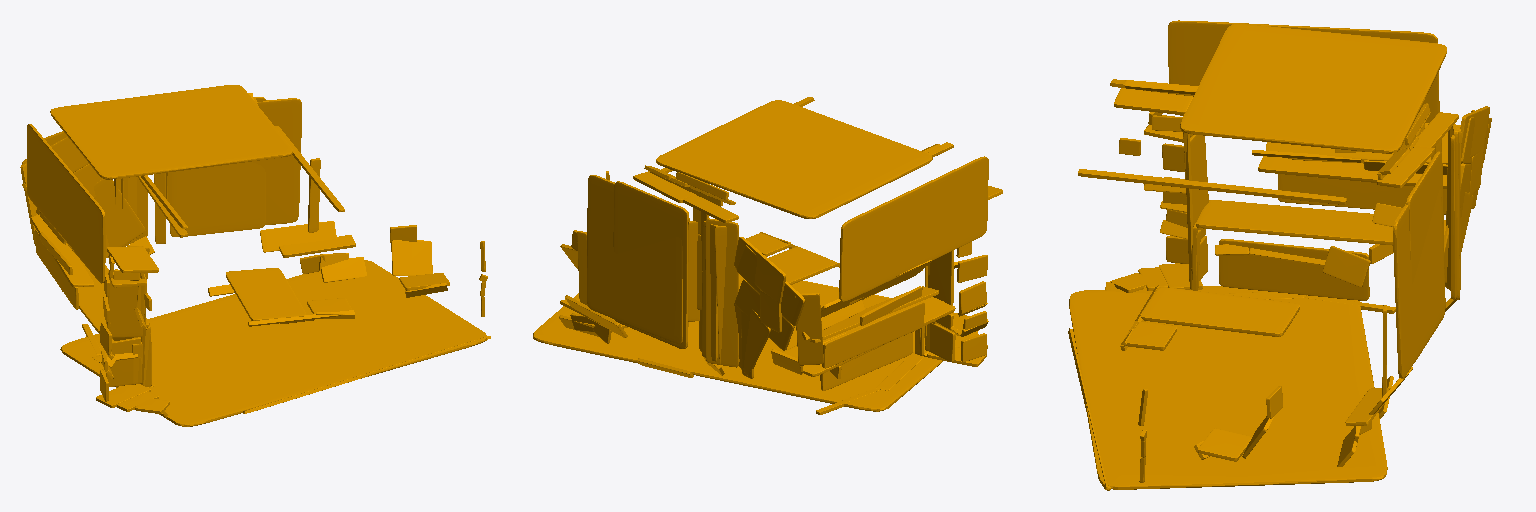
--- Facts derived from the render (not from the file) ---
Views: 3 orthographic renders of the robot side by side, from view 1: azimuth 30°, elevation 25°; view 2: azimuth 150°, elevation 25°; view 3: azimuth 270°, elevation 25°.
Robot: scene — 1 links, 0 joints (none); root link scene_link; default pose: all joints at 0.
Visible links, largest first — view 1: scene_link; view 2: scene_link; view 3: scene_link.
Boxes of the visible links, x1,y1,x2,y2 form: scene_link: [20, 85, 490, 426]; scene_link: [533, 97, 1002, 414]; scene_link: [1068, 20, 1491, 490].
Bounding box of the posed robot: 5.14 × 3.99 × 2.74 m (x, y, z).
Meshes: 102 distinct files referenced, 102 mesh visuals loaded (102 OBJ).

The robot description file, URDF, robot "scene":
<?xml version='1.0' encoding='utf-8'?>
<robot name="scene"><link name="scene_link"><visual><origin xyz="0.000000 0.000000 0.000000" rpy="0.000000 -0.000000 0.000000" /><geometry><mesh filename="part_000.obj" /></geometry></visual><collision><origin xyz="0.000000 0.000000 0.000000" rpy="0.000000 -0.000000 0.000000" /><geometry><mesh filename="part_000.obj" /></geometry></collision><visual><origin xyz="0.000000 0.000000 0.000000" rpy="0.000000 -0.000000 0.000000" /><geometry><mesh filename="part_001.obj" /></geometry></visual><collision><origin xyz="0.000000 0.000000 0.000000" rpy="0.000000 -0.000000 0.000000" /><geometry><mesh filename="part_001.obj" /></geometry></collision><visual><origin xyz="0.000000 0.000000 0.000000" rpy="0.000000 -0.000000 0.000000" /><geometry><mesh filename="part_002.obj" /></geometry></visual><collision><origin xyz="0.000000 0.000000 0.000000" rpy="0.000000 -0.000000 0.000000" /><geometry><mesh filename="part_002.obj" /></geometry></collision><visual><origin xyz="0.000000 0.000000 0.000000" rpy="0.000000 -0.000000 0.000000" /><geometry><mesh filename="part_003.obj" /></geometry></visual><collision><origin xyz="0.000000 0.000000 0.000000" rpy="0.000000 -0.000000 0.000000" /><geometry><mesh filename="part_003.obj" /></geometry></collision><visual><origin xyz="0.000000 0.000000 0.000000" rpy="0.000000 -0.000000 0.000000" /><geometry><mesh filename="part_004.obj" /></geometry></visual><collision><origin xyz="0.000000 0.000000 0.000000" rpy="0.000000 -0.000000 0.000000" /><geometry><mesh filename="part_004.obj" /></geometry></collision><visual><origin xyz="0.000000 0.000000 0.000000" rpy="0.000000 -0.000000 0.000000" /><geometry><mesh filename="part_005.obj" /></geometry></visual><collision><origin xyz="0.000000 0.000000 0.000000" rpy="0.000000 -0.000000 0.000000" /><geometry><mesh filename="part_005.obj" /></geometry></collision><visual><origin xyz="0.000000 0.000000 0.000000" rpy="0.000000 -0.000000 0.000000" /><geometry><mesh filename="part_006.obj" /></geometry></visual><collision><origin xyz="0.000000 0.000000 0.000000" rpy="0.000000 -0.000000 0.000000" /><geometry><mesh filename="part_006.obj" /></geometry></collision><visual><origin xyz="0.000000 0.000000 0.000000" rpy="0.000000 -0.000000 0.000000" /><geometry><mesh filename="part_007.obj" /></geometry></visual><collision><origin xyz="0.000000 0.000000 0.000000" rpy="0.000000 -0.000000 0.000000" /><geometry><mesh filename="part_007.obj" /></geometry></collision><visual><origin xyz="0.000000 0.000000 0.000000" rpy="0.000000 -0.000000 0.000000" /><geometry><mesh filename="part_008.obj" /></geometry></visual><collision><origin xyz="0.000000 0.000000 0.000000" rpy="0.000000 -0.000000 0.000000" /><geometry><mesh filename="part_008.obj" /></geometry></collision><visual><origin xyz="0.000000 0.000000 0.000000" rpy="0.000000 -0.000000 0.000000" /><geometry><mesh filename="part_009.obj" /></geometry></visual><collision><origin xyz="0.000000 0.000000 0.000000" rpy="0.000000 -0.000000 0.000000" /><geometry><mesh filename="part_009.obj" /></geometry></collision><visual><origin xyz="0.000000 0.000000 0.000000" rpy="0.000000 -0.000000 0.000000" /><geometry><mesh filename="part_010.obj" /></geometry></visual><collision><origin xyz="0.000000 0.000000 0.000000" rpy="0.000000 -0.000000 0.000000" /><geometry><mesh filename="part_010.obj" /></geometry></collision><visual><origin xyz="0.000000 0.000000 0.000000" rpy="0.000000 -0.000000 0.000000" /><geometry><mesh filename="part_011.obj" /></geometry></visual><collision><origin xyz="0.000000 0.000000 0.000000" rpy="0.000000 -0.000000 0.000000" /><geometry><mesh filename="part_011.obj" /></geometry></collision><visual><origin xyz="0.000000 0.000000 0.000000" rpy="0.000000 -0.000000 0.000000" /><geometry><mesh filename="part_012.obj" /></geometry></visual><collision><origin xyz="0.000000 0.000000 0.000000" rpy="0.000000 -0.000000 0.000000" /><geometry><mesh filename="part_012.obj" /></geometry></collision><visual><origin xyz="0.000000 0.000000 0.000000" rpy="0.000000 -0.000000 0.000000" /><geometry><mesh filename="part_013.obj" /></geometry></visual><collision><origin xyz="0.000000 0.000000 0.000000" rpy="0.000000 -0.000000 0.000000" /><geometry><mesh filename="part_013.obj" /></geometry></collision><visual><origin xyz="0.000000 0.000000 0.000000" rpy="0.000000 -0.000000 0.000000" /><geometry><mesh filename="part_014.obj" /></geometry></visual><collision><origin xyz="0.000000 0.000000 0.000000" rpy="0.000000 -0.000000 0.000000" /><geometry><mesh filename="part_014.obj" /></geometry></collision><visual><origin xyz="0.000000 0.000000 0.000000" rpy="0.000000 -0.000000 0.000000" /><geometry><mesh filename="part_015.obj" /></geometry></visual><collision><origin xyz="0.000000 0.000000 0.000000" rpy="0.000000 -0.000000 0.000000" /><geometry><mesh filename="part_015.obj" /></geometry></collision><visual><origin xyz="0.000000 0.000000 0.000000" rpy="0.000000 -0.000000 0.000000" /><geometry><mesh filename="part_016.obj" /></geometry></visual><collision><origin xyz="0.000000 0.000000 0.000000" rpy="0.000000 -0.000000 0.000000" /><geometry><mesh filename="part_016.obj" /></geometry></collision><visual><origin xyz="0.000000 0.000000 0.000000" rpy="0.000000 -0.000000 0.000000" /><geometry><mesh filename="part_017.obj" /></geometry></visual><collision><origin xyz="0.000000 0.000000 0.000000" rpy="0.000000 -0.000000 0.000000" /><geometry><mesh filename="part_017.obj" /></geometry></collision><visual><origin xyz="0.000000 0.000000 0.000000" rpy="0.000000 -0.000000 0.000000" /><geometry><mesh filename="part_018.obj" /></geometry></visual><collision><origin xyz="0.000000 0.000000 0.000000" rpy="0.000000 -0.000000 0.000000" /><geometry><mesh filename="part_018.obj" /></geometry></collision><visual><origin xyz="0.000000 0.000000 0.000000" rpy="0.000000 -0.000000 0.000000" /><geometry><mesh filename="part_019.obj" /></geometry></visual><collision><origin xyz="0.000000 0.000000 0.000000" rpy="0.000000 -0.000000 0.000000" /><geometry><mesh filename="part_019.obj" /></geometry></collision><visual><origin xyz="0.000000 0.000000 0.000000" rpy="0.000000 -0.000000 0.000000" /><geometry><mesh filename="part_020.obj" /></geometry></visual><collision><origin xyz="0.000000 0.000000 0.000000" rpy="0.000000 -0.000000 0.000000" /><geometry><mesh filename="part_020.obj" /></geometry></collision><visual><origin xyz="0.000000 0.000000 0.000000" rpy="0.000000 -0.000000 0.000000" /><geometry><mesh filename="part_021.obj" /></geometry></visual><collision><origin xyz="0.000000 0.000000 0.000000" rpy="0.000000 -0.000000 0.000000" /><geometry><mesh filename="part_021.obj" /></geometry></collision><visual><origin xyz="0.000000 0.000000 0.000000" rpy="0.000000 -0.000000 0.000000" /><geometry><mesh filename="part_022.obj" /></geometry></visual><collision><origin xyz="0.000000 0.000000 0.000000" rpy="0.000000 -0.000000 0.000000" /><geometry><mesh filename="part_022.obj" /></geometry></collision><visual><origin xyz="0.000000 0.000000 0.000000" rpy="0.000000 -0.000000 0.000000" /><geometry><mesh filename="part_023.obj" /></geometry></visual><collision><origin xyz="0.000000 0.000000 0.000000" rpy="0.000000 -0.000000 0.000000" /><geometry><mesh filename="part_023.obj" /></geometry></collision><visual><origin xyz="0.000000 0.000000 0.000000" rpy="0.000000 -0.000000 0.000000" /><geometry><mesh filename="part_024.obj" /></geometry></visual><collision><origin xyz="0.000000 0.000000 0.000000" rpy="0.000000 -0.000000 0.000000" /><geometry><mesh filename="part_024.obj" /></geometry></collision><visual><origin xyz="0.000000 0.000000 0.000000" rpy="0.000000 -0.000000 0.000000" /><geometry><mesh filename="part_025.obj" /></geometry></visual><collision><origin xyz="0.000000 0.000000 0.000000" rpy="0.000000 -0.000000 0.000000" /><geometry><mesh filename="part_025.obj" /></geometry></collision><visual><origin xyz="0.000000 0.000000 0.000000" rpy="0.000000 -0.000000 0.000000" /><geometry><mesh filename="part_026.obj" /></geometry></visual><collision><origin xyz="0.000000 0.000000 0.000000" rpy="0.000000 -0.000000 0.000000" /><geometry><mesh filename="part_026.obj" /></geometry></collision><visual><origin xyz="0.000000 0.000000 0.000000" rpy="0.000000 -0.000000 0.000000" /><geometry><mesh filename="part_027.obj" /></geometry></visual><collision><origin xyz="0.000000 0.000000 0.000000" rpy="0.000000 -0.000000 0.000000" /><geometry><mesh filename="part_027.obj" /></geometry></collision><visual><origin xyz="0.000000 0.000000 0.000000" rpy="0.000000 -0.000000 0.000000" /><geometry><mesh filename="part_028.obj" /></geometry></visual><collision><origin xyz="0.000000 0.000000 0.000000" rpy="0.000000 -0.000000 0.000000" /><geometry><mesh filename="part_028.obj" /></geometry></collision><visual><origin xyz="0.000000 0.000000 0.000000" rpy="0.000000 -0.000000 0.000000" /><geometry><mesh filename="part_029.obj" /></geometry></visual><collision><origin xyz="0.000000 0.000000 0.000000" rpy="0.000000 -0.000000 0.000000" /><geometry><mesh filename="part_029.obj" /></geometry></collision><visual><origin xyz="0.000000 0.000000 0.000000" rpy="0.000000 -0.000000 0.000000" /><geometry><mesh filename="part_030.obj" /></geometry></visual><collision><origin xyz="0.000000 0.000000 0.000000" rpy="0.000000 -0.000000 0.000000" /><geometry><mesh filename="part_030.obj" /></geometry></collision><visual><origin xyz="0.000000 0.000000 0.000000" rpy="0.000000 -0.000000 0.000000" /><geometry><mesh filename="part_031.obj" /></geometry></visual><collision><origin xyz="0.000000 0.000000 0.000000" rpy="0.000000 -0.000000 0.000000" /><geometry><mesh filename="part_031.obj" /></geometry></collision><visual><origin xyz="0.000000 0.000000 0.000000" rpy="0.000000 -0.000000 0.000000" /><geometry><mesh filename="part_032.obj" /></geometry></visual><collision><origin xyz="0.000000 0.000000 0.000000" rpy="0.000000 -0.000000 0.000000" /><geometry><mesh filename="part_032.obj" /></geometry></collision><visual><origin xyz="0.000000 0.000000 0.000000" rpy="0.000000 -0.000000 0.000000" /><geometry><mesh filename="part_033.obj" /></geometry></visual><collision><origin xyz="0.000000 0.000000 0.000000" rpy="0.000000 -0.000000 0.000000" /><geometry><mesh filename="part_033.obj" /></geometry></collision><visual><origin xyz="0.000000 0.000000 0.000000" rpy="0.000000 -0.000000 0.000000" /><geometry><mesh filename="part_034.obj" /></geometry></visual><collision><origin xyz="0.000000 0.000000 0.000000" rpy="0.000000 -0.000000 0.000000" /><geometry><mesh filename="part_034.obj" /></geometry></collision><visual><origin xyz="0.000000 0.000000 0.000000" rpy="0.000000 -0.000000 0.000000" /><geometry><mesh filename="part_035.obj" /></geometry></visual><collision><origin xyz="0.000000 0.000000 0.000000" rpy="0.000000 -0.000000 0.000000" /><geometry><mesh filename="part_035.obj" /></geometry></collision><visual><origin xyz="0.000000 0.000000 0.000000" rpy="0.000000 -0.000000 0.000000" /><geometry><mesh filename="part_036.obj" /></geometry></visual><collision><origin xyz="0.000000 0.000000 0.000000" rpy="0.000000 -0.000000 0.000000" /><geometry><mesh filename="part_036.obj" /></geometry></collision><visual><origin xyz="0.000000 0.000000 0.000000" rpy="0.000000 -0.000000 0.000000" /><geometry><mesh filename="part_037.obj" /></geometry></visual><collision><origin xyz="0.000000 0.000000 0.000000" rpy="0.000000 -0.000000 0.000000" /><geometry><mesh filename="part_037.obj" /></geometry></collision><visual><origin xyz="0.000000 0.000000 0.000000" rpy="0.000000 -0.000000 0.000000" /><geometry><mesh filename="part_038.obj" /></geometry></visual><collision><origin xyz="0.000000 0.000000 0.000000" rpy="0.000000 -0.000000 0.000000" /><geometry><mesh filename="part_038.obj" /></geometry></collision><visual><origin xyz="0.000000 0.000000 0.000000" rpy="0.000000 -0.000000 0.000000" /><geometry><mesh filename="part_039.obj" /></geometry></visual><collision><origin xyz="0.000000 0.000000 0.000000" rpy="0.000000 -0.000000 0.000000" /><geometry><mesh filename="part_039.obj" /></geometry></collision><visual><origin xyz="0.000000 0.000000 0.000000" rpy="0.000000 -0.000000 0.000000" /><geometry><mesh filename="part_040.obj" /></geometry></visual><collision><origin xyz="0.000000 0.000000 0.000000" rpy="0.000000 -0.000000 0.000000" /><geometry><mesh filename="part_040.obj" /></geometry></collision><visual><origin xyz="0.000000 0.000000 0.000000" rpy="0.000000 -0.000000 0.000000" /><geometry><mesh filename="part_041.obj" /></geometry></visual><collision><origin xyz="0.000000 0.000000 0.000000" rpy="0.000000 -0.000000 0.000000" /><geometry><mesh filename="part_041.obj" /></geometry></collision><visual><origin xyz="0.000000 0.000000 0.000000" rpy="0.000000 -0.000000 0.000000" /><geometry><mesh filename="part_042.obj" /></geometry></visual><collision><origin xyz="0.000000 0.000000 0.000000" rpy="0.000000 -0.000000 0.000000" /><geometry><mesh filename="part_042.obj" /></geometry></collision><visual><origin xyz="0.000000 0.000000 0.000000" rpy="0.000000 -0.000000 0.000000" /><geometry><mesh filename="part_043.obj" /></geometry></visual><collision><origin xyz="0.000000 0.000000 0.000000" rpy="0.000000 -0.000000 0.000000" /><geometry><mesh filename="part_043.obj" /></geometry></collision><visual><origin xyz="0.000000 0.000000 0.000000" rpy="0.000000 -0.000000 0.000000" /><geometry><mesh filename="part_044.obj" /></geometry></visual><collision><origin xyz="0.000000 0.000000 0.000000" rpy="0.000000 -0.000000 0.000000" /><geometry><mesh filename="part_044.obj" /></geometry></collision><visual><origin xyz="0.000000 0.000000 0.000000" rpy="0.000000 -0.000000 0.000000" /><geometry><mesh filename="part_045.obj" /></geometry></visual><collision><origin xyz="0.000000 0.000000 0.000000" rpy="0.000000 -0.000000 0.000000" /><geometry><mesh filename="part_045.obj" /></geometry></collision><visual><origin xyz="0.000000 0.000000 0.000000" rpy="0.000000 -0.000000 0.000000" /><geometry><mesh filename="part_046.obj" /></geometry></visual><collision><origin xyz="0.000000 0.000000 0.000000" rpy="0.000000 -0.000000 0.000000" /><geometry><mesh filename="part_046.obj" /></geometry></collision><visual><origin xyz="0.000000 0.000000 0.000000" rpy="0.000000 -0.000000 0.000000" /><geometry><mesh filename="part_047.obj" /></geometry></visual><collision><origin xyz="0.000000 0.000000 0.000000" rpy="0.000000 -0.000000 0.000000" /><geometry><mesh filename="part_047.obj" /></geometry></collision><visual><origin xyz="0.000000 0.000000 0.000000" rpy="0.000000 -0.000000 0.000000" /><geometry><mesh filename="part_048.obj" /></geometry></visual><collision><origin xyz="0.000000 0.000000 0.000000" rpy="0.000000 -0.000000 0.000000" /><geometry><mesh filename="part_048.obj" /></geometry></collision><visual><origin xyz="0.000000 0.000000 0.000000" rpy="0.000000 -0.000000 0.000000" /><geometry><mesh filename="part_049.obj" /></geometry></visual><collision><origin xyz="0.000000 0.000000 0.000000" rpy="0.000000 -0.000000 0.000000" /><geometry><mesh filename="part_049.obj" /></geometry></collision><visual><origin xyz="0.000000 0.000000 0.000000" rpy="0.000000 -0.000000 0.000000" /><geometry><mesh filename="part_050.obj" /></geometry></visual><collision><origin xyz="0.000000 0.000000 0.000000" rpy="0.000000 -0.000000 0.000000" /><geometry><mesh filename="part_050.obj" /></geometry></collision><visual><origin xyz="0.000000 0.000000 0.000000" rpy="0.000000 -0.000000 0.000000" /><geometry><mesh filename="part_051.obj" /></geometry></visual><collision><origin xyz="0.000000 0.000000 0.000000" rpy="0.000000 -0.000000 0.000000" /><geometry><mesh filename="part_051.obj" /></geometry></collision><visual><origin xyz="0.000000 0.000000 0.000000" rpy="0.000000 -0.000000 0.000000" /><geometry><mesh filename="part_052.obj" /></geometry></visual><collision><origin xyz="0.000000 0.000000 0.000000" rpy="0.000000 -0.000000 0.000000" /><geometry><mesh filename="part_052.obj" /></geometry></collision><visual><origin xyz="0.000000 0.000000 0.000000" rpy="0.000000 -0.000000 0.000000" /><geometry><mesh filename="part_053.obj" /></geometry></visual><collision><origin xyz="0.000000 0.000000 0.000000" rpy="0.000000 -0.000000 0.000000" /><geometry><mesh filename="part_053.obj" /></geometry></collision><visual><origin xyz="0.000000 0.000000 0.000000" rpy="0.000000 -0.000000 0.000000" /><geometry><mesh filename="part_054.obj" /></geometry></visual><collision><origin xyz="0.000000 0.000000 0.000000" rpy="0.000000 -0.000000 0.000000" /><geometry><mesh filename="part_054.obj" /></geometry></collision><visual><origin xyz="0.000000 0.000000 0.000000" rpy="0.000000 -0.000000 0.000000" /><geometry><mesh filename="part_055.obj" /></geometry></visual><collision><origin xyz="0.000000 0.000000 0.000000" rpy="0.000000 -0.000000 0.000000" /><geometry><mesh filename="part_055.obj" /></geometry></collision><visual><origin xyz="0.000000 0.000000 0.000000" rpy="0.000000 -0.000000 0.000000" /><geometry><mesh filename="part_056.obj" /></geometry></visual><collision><origin xyz="0.000000 0.000000 0.000000" rpy="0.000000 -0.000000 0.000000" /><geometry><mesh filename="part_056.obj" /></geometry></collision><visual><origin xyz="0.000000 0.000000 0.000000" rpy="0.000000 -0.000000 0.000000" /><geometry><mesh filename="part_057.obj" /></geometry></visual><collision><origin xyz="0.000000 0.000000 0.000000" rpy="0.000000 -0.000000 0.000000" /><geometry><mesh filename="part_057.obj" /></geometry></collision><visual><origin xyz="0.000000 0.000000 0.000000" rpy="0.000000 -0.000000 0.000000" /><geometry><mesh filename="part_058.obj" /></geometry></visual><collision><origin xyz="0.000000 0.000000 0.000000" rpy="0.000000 -0.000000 0.000000" /><geometry><mesh filename="part_058.obj" /></geometry></collision><visual><origin xyz="0.000000 0.000000 0.000000" rpy="0.000000 -0.000000 0.000000" /><geometry><mesh filename="part_059.obj" /></geometry></visual><collision><origin xyz="0.000000 0.000000 0.000000" rpy="0.000000 -0.000000 0.000000" /><geometry><mesh filename="part_059.obj" /></geometry></collision><visual><origin xyz="0.000000 0.000000 0.000000" rpy="0.000000 -0.000000 0.000000" /><geometry><mesh filename="part_060.obj" /></geometry></visual><collision><origin xyz="0.000000 0.000000 0.000000" rpy="0.000000 -0.000000 0.000000" /><geometry><mesh filename="part_060.obj" /></geometry></collision><visual><origin xyz="0.000000 0.000000 0.000000" rpy="0.000000 -0.000000 0.000000" /><geometry><mesh filename="part_061.obj" /></geometry></visual><collision><origin xyz="0.000000 0.000000 0.000000" rpy="0.000000 -0.000000 0.000000" /><geometry><mesh filename="part_061.obj" /></geometry></collision><visual><origin xyz="0.000000 0.000000 0.000000" rpy="0.000000 -0.000000 0.000000" /><geometry><mesh filename="part_062.obj" /></geometry></visual><collision><origin xyz="0.000000 0.000000 0.000000" rpy="0.000000 -0.000000 0.000000" /><geometry><mesh filename="part_062.obj" /></geometry></collision><visual><origin xyz="0.000000 0.000000 0.000000" rpy="0.000000 -0.000000 0.000000" /><geometry><mesh filename="part_063.obj" /></geometry></visual><collision><origin xyz="0.000000 0.000000 0.000000" rpy="0.000000 -0.000000 0.000000" /><geometry><mesh filename="part_063.obj" /></geometry></collision><visual><origin xyz="0.000000 0.000000 0.000000" rpy="0.000000 -0.000000 0.000000" /><geometry><mesh filename="part_064.obj" /></geometry></visual><collision><origin xyz="0.000000 0.000000 0.000000" rpy="0.000000 -0.000000 0.000000" /><geometry><mesh filename="part_064.obj" /></geometry></collision><visual><origin xyz="0.000000 0.000000 0.000000" rpy="0.000000 -0.000000 0.000000" /><geometry><mesh filename="part_065.obj" /></geometry></visual><collision><origin xyz="0.000000 0.000000 0.000000" rpy="0.000000 -0.000000 0.000000" /><geometry><mesh filename="part_065.obj" /></geometry></collision><visual><origin xyz="0.000000 0.000000 0.000000" rpy="0.000000 -0.000000 0.000000" /><geometry><mesh filename="part_066.obj" /></geometry></visual><collision><origin xyz="0.000000 0.000000 0.000000" rpy="0.000000 -0.000000 0.000000" /><geometry><mesh filename="part_066.obj" /></geometry></collision><visual><origin xyz="0.000000 0.000000 0.000000" rpy="0.000000 -0.000000 0.000000" /><geometry><mesh filename="part_067.obj" /></geometry></visual><collision><origin xyz="0.000000 0.000000 0.000000" rpy="0.000000 -0.000000 0.000000" /><geometry><mesh filename="part_067.obj" /></geometry></collision><visual><origin xyz="0.000000 0.000000 0.000000" rpy="0.000000 -0.000000 0.000000" /><geometry><mesh filename="part_068.obj" /></geometry></visual><collision><origin xyz="0.000000 0.000000 0.000000" rpy="0.000000 -0.000000 0.000000" /><geometry><mesh filename="part_068.obj" /></geometry></collision><visual><origin xyz="0.000000 0.000000 0.000000" rpy="0.000000 -0.000000 0.000000" /><geometry><mesh filename="part_069.obj" /></geometry></visual><collision><origin xyz="0.000000 0.000000 0.000000" rpy="0.000000 -0.000000 0.000000" /><geometry><mesh filename="part_069.obj" /></geometry></collision><visual><origin xyz="0.000000 0.000000 0.000000" rpy="0.000000 -0.000000 0.000000" /><geometry><mesh filename="part_070.obj" /></geometry></visual><collision><origin xyz="0.000000 0.000000 0.000000" rpy="0.000000 -0.000000 0.000000" /><geometry><mesh filename="part_070.obj" /></geometry></collision><visual><origin xyz="0.000000 0.000000 0.000000" rpy="0.000000 -0.000000 0.000000" /><geometry><mesh filename="part_071.obj" /></geometry></visual><collision><origin xyz="0.000000 0.000000 0.000000" rpy="0.000000 -0.000000 0.000000" /><geometry><mesh filename="part_071.obj" /></geometry></collision><visual><origin xyz="0.000000 0.000000 0.000000" rpy="0.000000 -0.000000 0.000000" /><geometry><mesh filename="part_072.obj" /></geometry></visual><collision><origin xyz="0.000000 0.000000 0.000000" rpy="0.000000 -0.000000 0.000000" /><geometry><mesh filename="part_072.obj" /></geometry></collision><visual><origin xyz="0.000000 0.000000 0.000000" rpy="0.000000 -0.000000 0.000000" /><geometry><mesh filename="part_073.obj" /></geometry></visual><collision><origin xyz="0.000000 0.000000 0.000000" rpy="0.000000 -0.000000 0.000000" /><geometry><mesh filename="part_073.obj" /></geometry></collision><visual><origin xyz="0.000000 0.000000 0.000000" rpy="0.000000 -0.000000 0.000000" /><geometry><mesh filename="part_074.obj" /></geometry></visual><collision><origin xyz="0.000000 0.000000 0.000000" rpy="0.000000 -0.000000 0.000000" /><geometry><mesh filename="part_074.obj" /></geometry></collision><visual><origin xyz="0.000000 0.000000 0.000000" rpy="0.000000 -0.000000 0.000000" /><geometry><mesh filename="part_075.obj" /></geometry></visual><collision><origin xyz="0.000000 0.000000 0.000000" rpy="0.000000 -0.000000 0.000000" /><geometry><mesh filename="part_075.obj" /></geometry></collision><visual><origin xyz="0.000000 0.000000 0.000000" rpy="0.000000 -0.000000 0.000000" /><geometry><mesh filename="part_076.obj" /></geometry></visual><collision><origin xyz="0.000000 0.000000 0.000000" rpy="0.000000 -0.000000 0.000000" /><geometry><mesh filename="part_076.obj" /></geometry></collision><visual><origin xyz="0.000000 0.000000 0.000000" rpy="0.000000 -0.000000 0.000000" /><geometry><mesh filename="part_077.obj" /></geometry></visual><collision><origin xyz="0.000000 0.000000 0.000000" rpy="0.000000 -0.000000 0.000000" /><geometry><mesh filename="part_077.obj" /></geometry></collision><visual><origin xyz="0.000000 0.000000 0.000000" rpy="0.000000 -0.000000 0.000000" /><geometry><mesh filename="part_078.obj" /></geometry></visual><collision><origin xyz="0.000000 0.000000 0.000000" rpy="0.000000 -0.000000 0.000000" /><geometry><mesh filename="part_078.obj" /></geometry></collision><visual><origin xyz="0.000000 0.000000 0.000000" rpy="0.000000 -0.000000 0.000000" /><geometry><mesh filename="part_079.obj" /></geometry></visual><collision><origin xyz="0.000000 0.000000 0.000000" rpy="0.000000 -0.000000 0.000000" /><geometry><mesh filename="part_079.obj" /></geometry></collision><visual><origin xyz="0.000000 0.000000 0.000000" rpy="0.000000 -0.000000 0.000000" /><geometry><mesh filename="part_080.obj" /></geometry></visual><collision><origin xyz="0.000000 0.000000 0.000000" rpy="0.000000 -0.000000 0.000000" /><geometry><mesh filename="part_080.obj" /></geometry></collision><visual><origin xyz="0.000000 0.000000 0.000000" rpy="0.000000 -0.000000 0.000000" /><geometry><mesh filename="part_081.obj" /></geometry></visual><collision><origin xyz="0.000000 0.000000 0.000000" rpy="0.000000 -0.000000 0.000000" /><geometry><mesh filename="part_081.obj" /></geometry></collision><visual><origin xyz="0.000000 0.000000 0.000000" rpy="0.000000 -0.000000 0.000000" /><geometry><mesh filename="part_082.obj" /></geometry></visual><collision><origin xyz="0.000000 0.000000 0.000000" rpy="0.000000 -0.000000 0.000000" /><geometry><mesh filename="part_082.obj" /></geometry></collision><visual><origin xyz="0.000000 0.000000 0.000000" rpy="0.000000 -0.000000 0.000000" /><geometry><mesh filename="part_083.obj" /></geometry></visual><collision><origin xyz="0.000000 0.000000 0.000000" rpy="0.000000 -0.000000 0.000000" /><geometry><mesh filename="part_083.obj" /></geometry></collision><visual><origin xyz="0.000000 0.000000 0.000000" rpy="0.000000 -0.000000 0.000000" /><geometry><mesh filename="part_084.obj" /></geometry></visual><collision><origin xyz="0.000000 0.000000 0.000000" rpy="0.000000 -0.000000 0.000000" /><geometry><mesh filename="part_084.obj" /></geometry></collision><visual><origin xyz="0.000000 0.000000 0.000000" rpy="0.000000 -0.000000 0.000000" /><geometry><mesh filename="part_085.obj" /></geometry></visual><collision><origin xyz="0.000000 0.000000 0.000000" rpy="0.000000 -0.000000 0.000000" /><geometry><mesh filename="part_085.obj" /></geometry></collision><visual><origin xyz="0.000000 0.000000 0.000000" rpy="0.000000 -0.000000 0.000000" /><geometry><mesh filename="part_086.obj" /></geometry></visual><collision><origin xyz="0.000000 0.000000 0.000000" rpy="0.000000 -0.000000 0.000000" /><geometry><mesh filename="part_086.obj" /></geometry></collision><visual><origin xyz="0.000000 0.000000 0.000000" rpy="0.000000 -0.000000 0.000000" /><geometry><mesh filename="part_087.obj" /></geometry></visual><collision><origin xyz="0.000000 0.000000 0.000000" rpy="0.000000 -0.000000 0.000000" /><geometry><mesh filename="part_087.obj" /></geometry></collision><visual><origin xyz="0.000000 0.000000 0.000000" rpy="0.000000 -0.000000 0.000000" /><geometry><mesh filename="part_088.obj" /></geometry></visual><collision><origin xyz="0.000000 0.000000 0.000000" rpy="0.000000 -0.000000 0.000000" /><geometry><mesh filename="part_088.obj" /></geometry></collision><visual><origin xyz="0.000000 0.000000 0.000000" rpy="0.000000 -0.000000 0.000000" /><geometry><mesh filename="part_089.obj" /></geometry></visual><collision><origin xyz="0.000000 0.000000 0.000000" rpy="0.000000 -0.000000 0.000000" /><geometry><mesh filename="part_089.obj" /></geometry></collision><visual><origin xyz="0.000000 0.000000 0.000000" rpy="0.000000 -0.000000 0.000000" /><geometry><mesh filename="part_090.obj" /></geometry></visual><collision><origin xyz="0.000000 0.000000 0.000000" rpy="0.000000 -0.000000 0.000000" /><geometry><mesh filename="part_090.obj" /></geometry></collision><visual><origin xyz="0.000000 0.000000 0.000000" rpy="0.000000 -0.000000 0.000000" /><geometry><mesh filename="part_091.obj" /></geometry></visual><collision><origin xyz="0.000000 0.000000 0.000000" rpy="0.000000 -0.000000 0.000000" /><geometry><mesh filename="part_091.obj" /></geometry></collision><visual><origin xyz="0.000000 0.000000 0.000000" rpy="0.000000 -0.000000 0.000000" /><geometry><mesh filename="part_092.obj" /></geometry></visual><collision><origin xyz="0.000000 0.000000 0.000000" rpy="0.000000 -0.000000 0.000000" /><geometry><mesh filename="part_092.obj" /></geometry></collision><visual><origin xyz="0.000000 0.000000 0.000000" rpy="0.000000 -0.000000 0.000000" /><geometry><mesh filename="part_093.obj" /></geometry></visual><collision><origin xyz="0.000000 0.000000 0.000000" rpy="0.000000 -0.000000 0.000000" /><geometry><mesh filename="part_093.obj" /></geometry></collision><visual><origin xyz="0.000000 0.000000 0.000000" rpy="0.000000 -0.000000 0.000000" /><geometry><mesh filename="part_094.obj" /></geometry></visual><collision><origin xyz="0.000000 0.000000 0.000000" rpy="0.000000 -0.000000 0.000000" /><geometry><mesh filename="part_094.obj" /></geometry></collision><visual><origin xyz="0.000000 0.000000 0.000000" rpy="0.000000 -0.000000 0.000000" /><geometry><mesh filename="part_095.obj" /></geometry></visual><collision><origin xyz="0.000000 0.000000 0.000000" rpy="0.000000 -0.000000 0.000000" /><geometry><mesh filename="part_095.obj" /></geometry></collision><visual><origin xyz="0.000000 0.000000 0.000000" rpy="0.000000 -0.000000 0.000000" /><geometry><mesh filename="part_096.obj" /></geometry></visual><collision><origin xyz="0.000000 0.000000 0.000000" rpy="0.000000 -0.000000 0.000000" /><geometry><mesh filename="part_096.obj" /></geometry></collision><visual><origin xyz="0.000000 0.000000 0.000000" rpy="0.000000 -0.000000 0.000000" /><geometry><mesh filename="part_097.obj" /></geometry></visual><collision><origin xyz="0.000000 0.000000 0.000000" rpy="0.000000 -0.000000 0.000000" /><geometry><mesh filename="part_097.obj" /></geometry></collision><visual><origin xyz="0.000000 0.000000 0.000000" rpy="0.000000 -0.000000 0.000000" /><geometry><mesh filename="part_098.obj" /></geometry></visual><collision><origin xyz="0.000000 0.000000 0.000000" rpy="0.000000 -0.000000 0.000000" /><geometry><mesh filename="part_098.obj" /></geometry></collision><visual><origin xyz="0.000000 0.000000 0.000000" rpy="0.000000 -0.000000 0.000000" /><geometry><mesh filename="part_099.obj" /></geometry></visual><collision><origin xyz="0.000000 0.000000 0.000000" rpy="0.000000 -0.000000 0.000000" /><geometry><mesh filename="part_099.obj" /></geometry></collision><visual><origin xyz="0.000000 0.000000 0.000000" rpy="0.000000 -0.000000 0.000000" /><geometry><mesh filename="part_100.obj" /></geometry></visual><collision><origin xyz="0.000000 0.000000 0.000000" rpy="0.000000 -0.000000 0.000000" /><geometry><mesh filename="part_100.obj" /></geometry></collision><visual><origin xyz="0.000000 0.000000 0.000000" rpy="0.000000 -0.000000 0.000000" /><geometry><mesh filename="part_101.obj" /></geometry></visual><collision><origin xyz="0.000000 0.000000 0.000000" rpy="0.000000 -0.000000 0.000000" /><geometry><mesh filename="part_101.obj" /></geometry></collision></link></robot>
